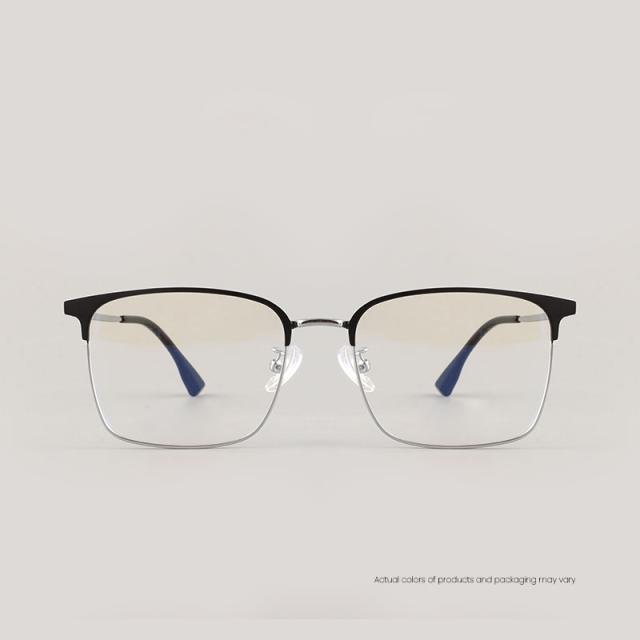glasses: (63, 286, 569, 471)
